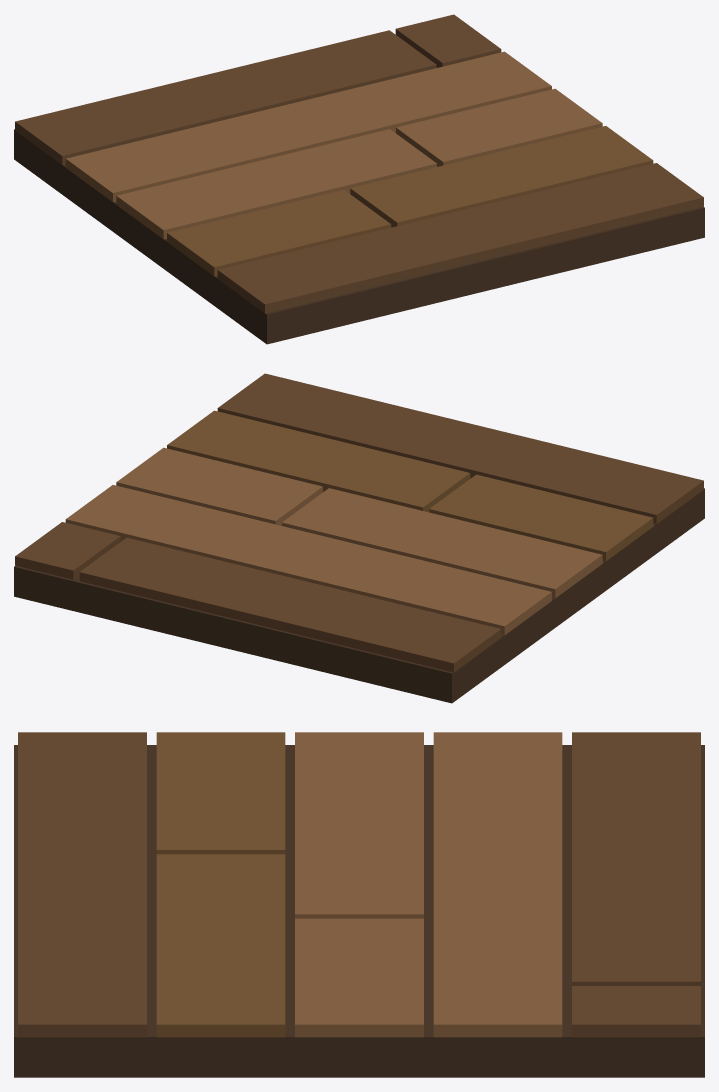
The model's file is mdvl_village_floor_wood_01.glb.
3 renders of one model, top to bottom at view 1: azimuth 30°, elevation 25°; view 2: azimuth 150°, elevation 25°; view 3: azimuth 270°, elevation 25°, orthographic. The views are drawn at different scales.
Visible parts, largest first — view 1: mdvl_village_floor_wood_01; view 2: mdvl_village_floor_wood_01; view 3: mdvl_village_floor_wood_01.
Boxes of the visible parts, x1,y1,x2,y2 form: mdvl_village_floor_wood_01: (14, 14, 704, 344); mdvl_village_floor_wood_01: (14, 373, 704, 703); mdvl_village_floor_wood_01: (14, 732, 704, 1077).
Bounding box in the file's own units: 1 × 0.085 × 0.998.
1 material, 1 textured.
